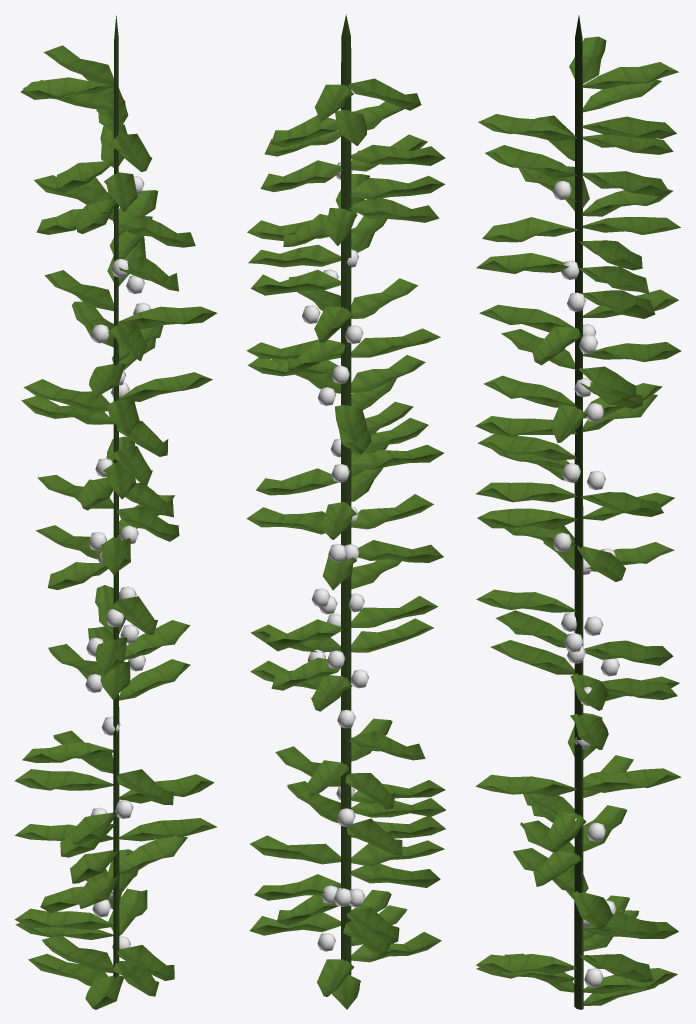
The model's file is KelpOrb3.fbx.
3 renders of one model, left to right at view 1: azimuth 30°, elevation 25°; view 2: azimuth 150°, elevation 25°; view 3: azimuth 270°, elevation 25°, orthographic. The views are drawn at different scales.
Visible parts, largest first — view 1: Circle.030; view 2: Circle.030; view 3: Circle.030.
Boxes of the visible parts, <box> form: Circle.030: <box>14,15,217,1009</box>; Circle.030: <box>246,14,446,1009</box>; Circle.030: <box>475,15,681,1009</box>.
Bounding box in the file's own units: 1155 × 6214 × 1167.
